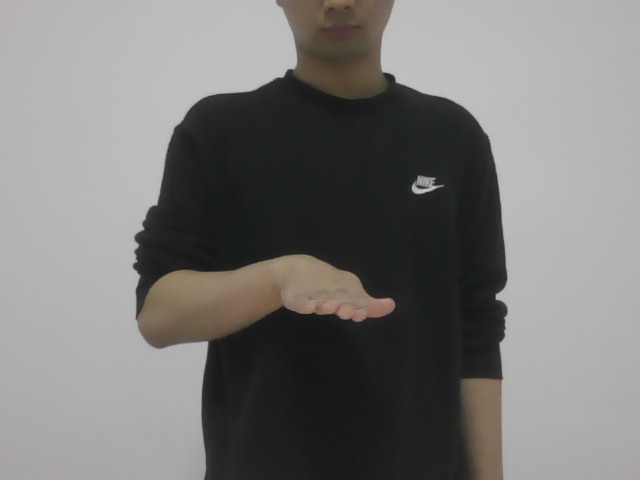slow: (268, 243, 403, 333)
